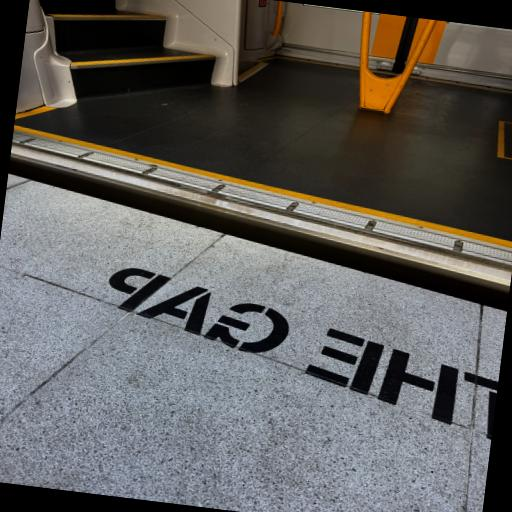gap: (8, 156, 510, 314)
